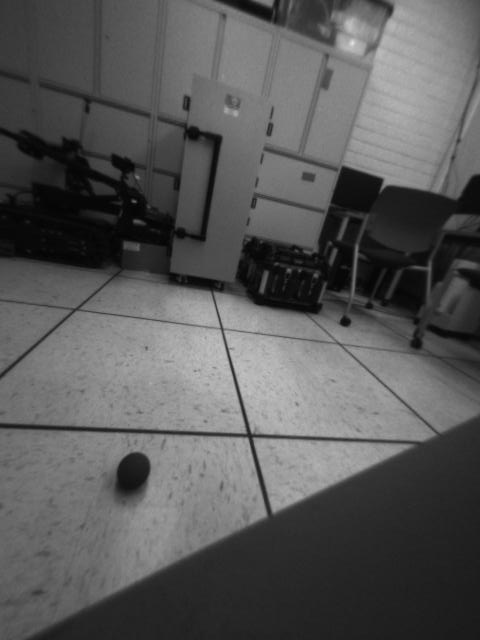dogtoy: (108, 445, 161, 501)
